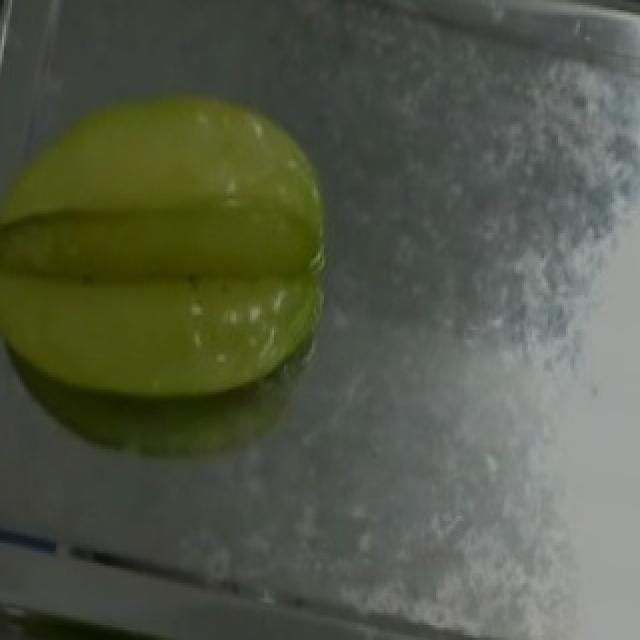fruit: (0, 57, 358, 456)
